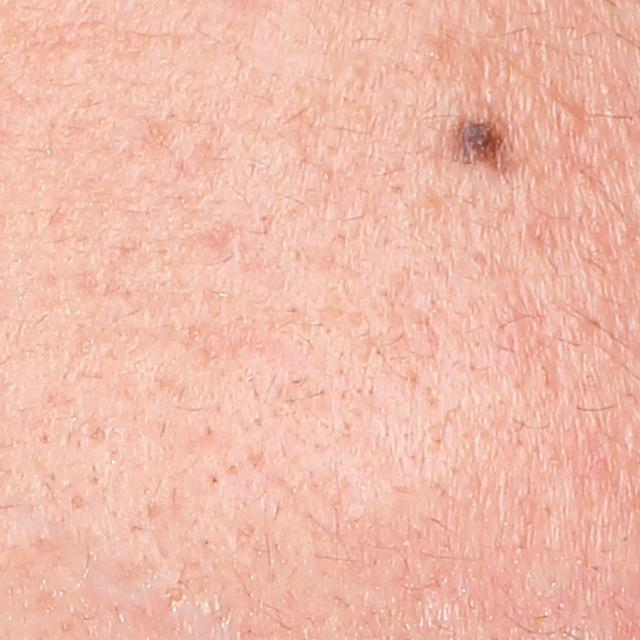comedo: (554, 103, 589, 136), (67, 489, 90, 513)
nevus: (451, 119, 507, 164)
